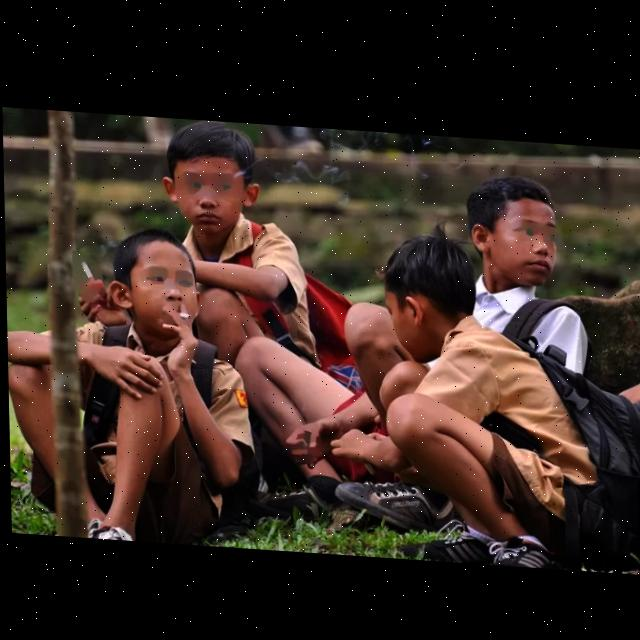cigarette: (79, 260, 92, 278), (362, 459, 373, 471), (175, 310, 189, 317)
